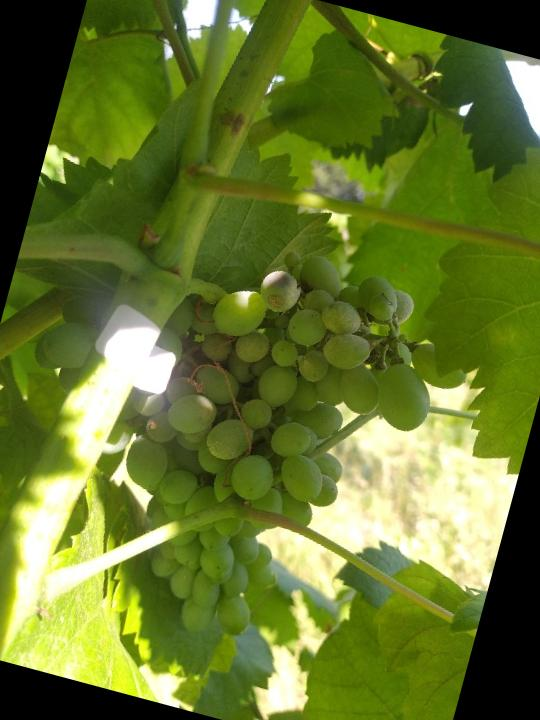grape: (0, 184, 493, 691)
